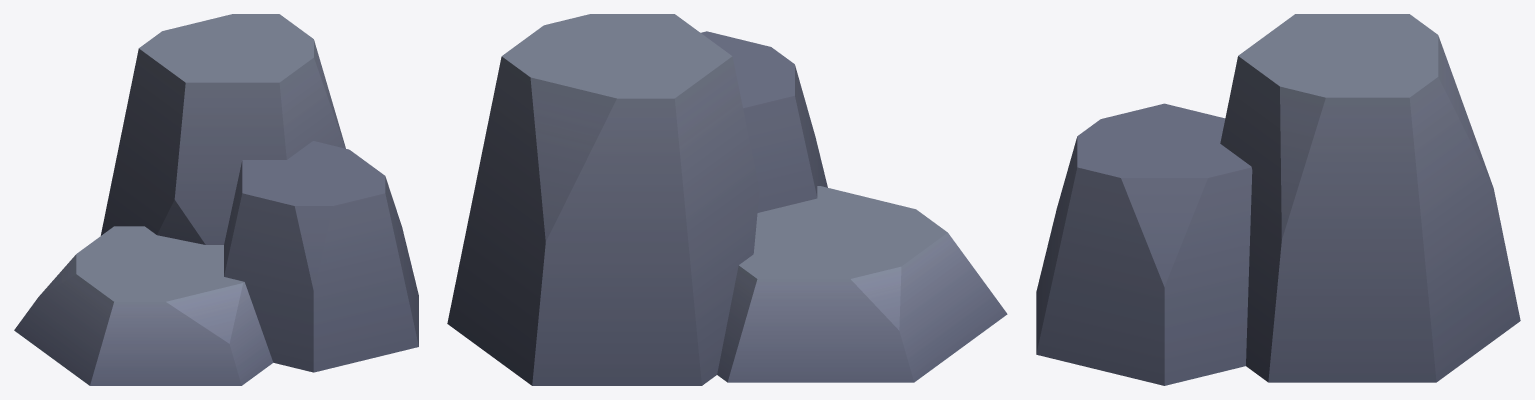
Rendered from kenney-platformer-rocks.glb.
The picture shows the model from 3 angles, left to right: view 1: azimuth 30°, elevation 25°; view 2: azimuth 150°, elevation 25°; view 3: azimuth 270°, elevation 25°; orthographic projection. The views are drawn at different scales.
Visible parts, largest first — view 1: rocks; view 2: rocks; view 3: rocks.
Boxes of the visible parts, x1,y1,x2,y2 form: rocks: (14, 14, 418, 385); rocks: (447, 14, 1007, 385); rocks: (1036, 14, 1520, 385).
Size of the model in its own units: 0.6531 by 0.4 by 0.6623.
1 material, 1 textured.
